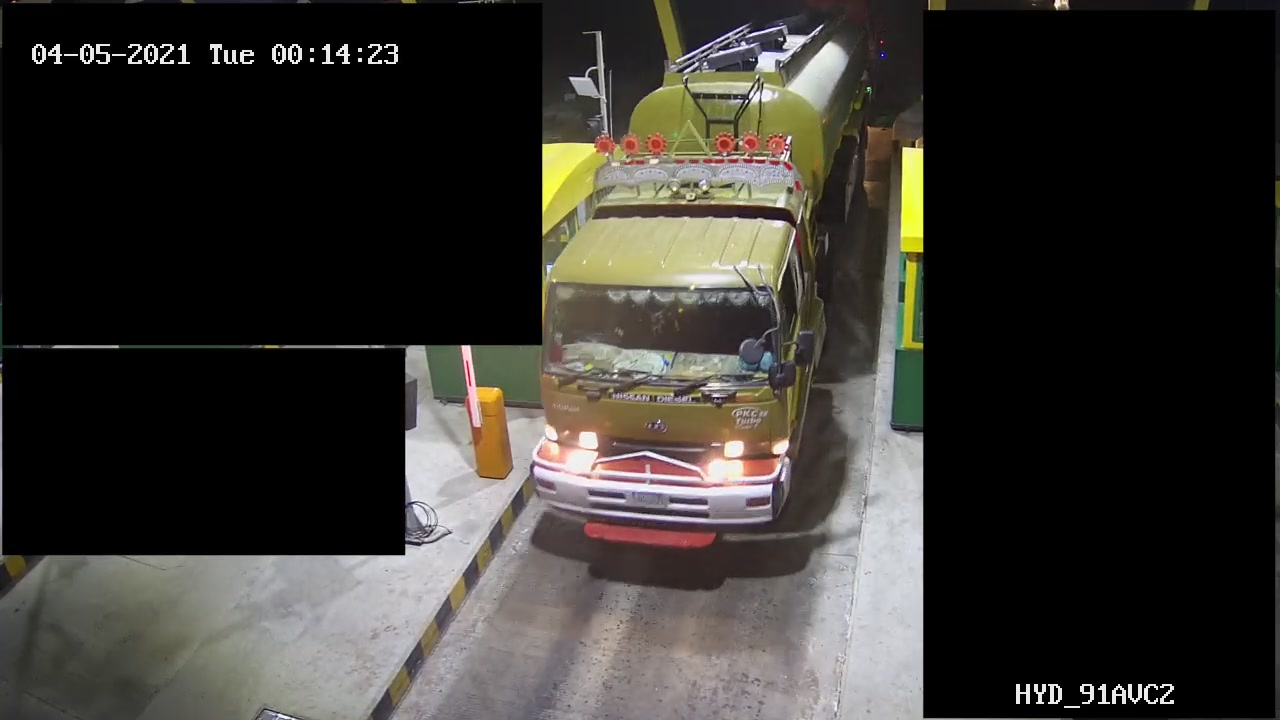F6: (529, 1, 898, 566)
